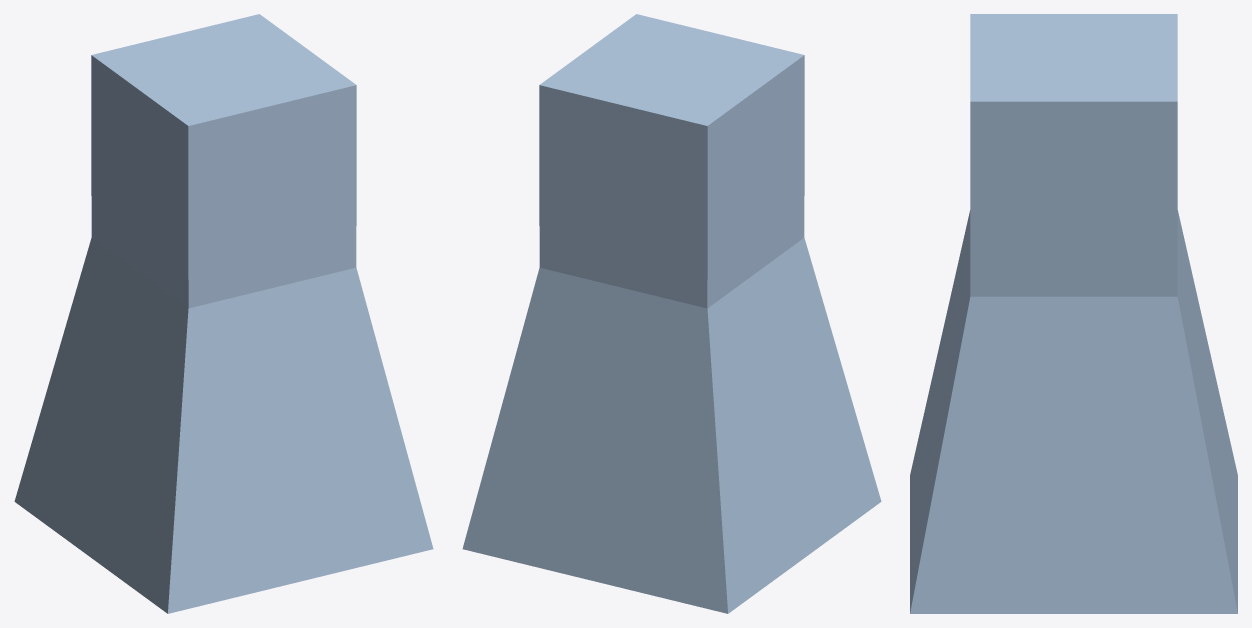
The model's file is pillar_bottom.fbx.
3 views of the same model, side by side, from view 1: azimuth 30°, elevation 25°; view 2: azimuth 150°, elevation 25°; view 3: azimuth 270°, elevation 25° (orthographic). The views are drawn at different scales.
Visible parts, largest first — view 1: Pillar; view 2: Pillar; view 3: Pillar.
Part boxes in pixels (<box>): Pillar: <box>14,14,433,613</box>; Pillar: <box>462,14,881,613</box>; Pillar: <box>910,14,1237,613</box>.
Size of the model in its own units: 200 by 328 by 200.
